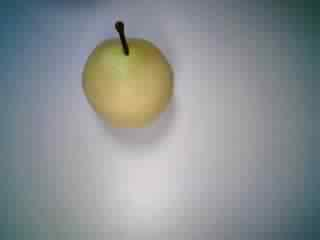pear: (70, 15, 185, 135)
